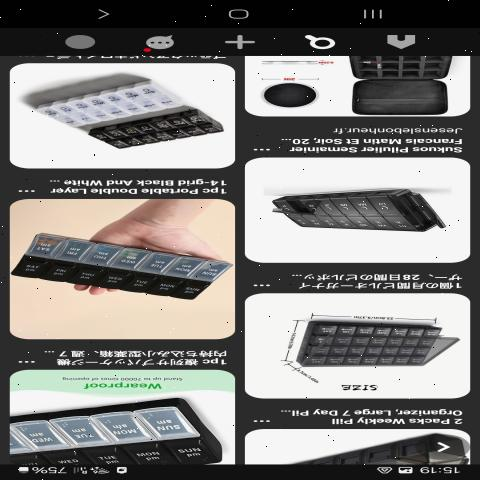PillBox: (3, 223, 227, 306), (274, 312, 467, 384), (263, 181, 444, 242), (88, 106, 227, 154)
